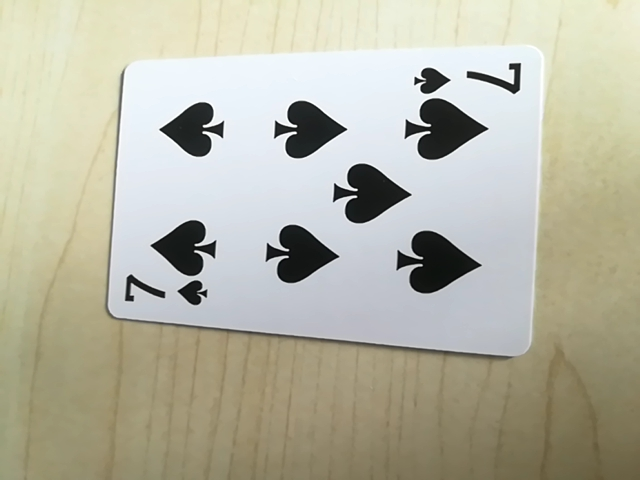ht 7: (407, 54, 529, 97), (115, 273, 216, 315)
